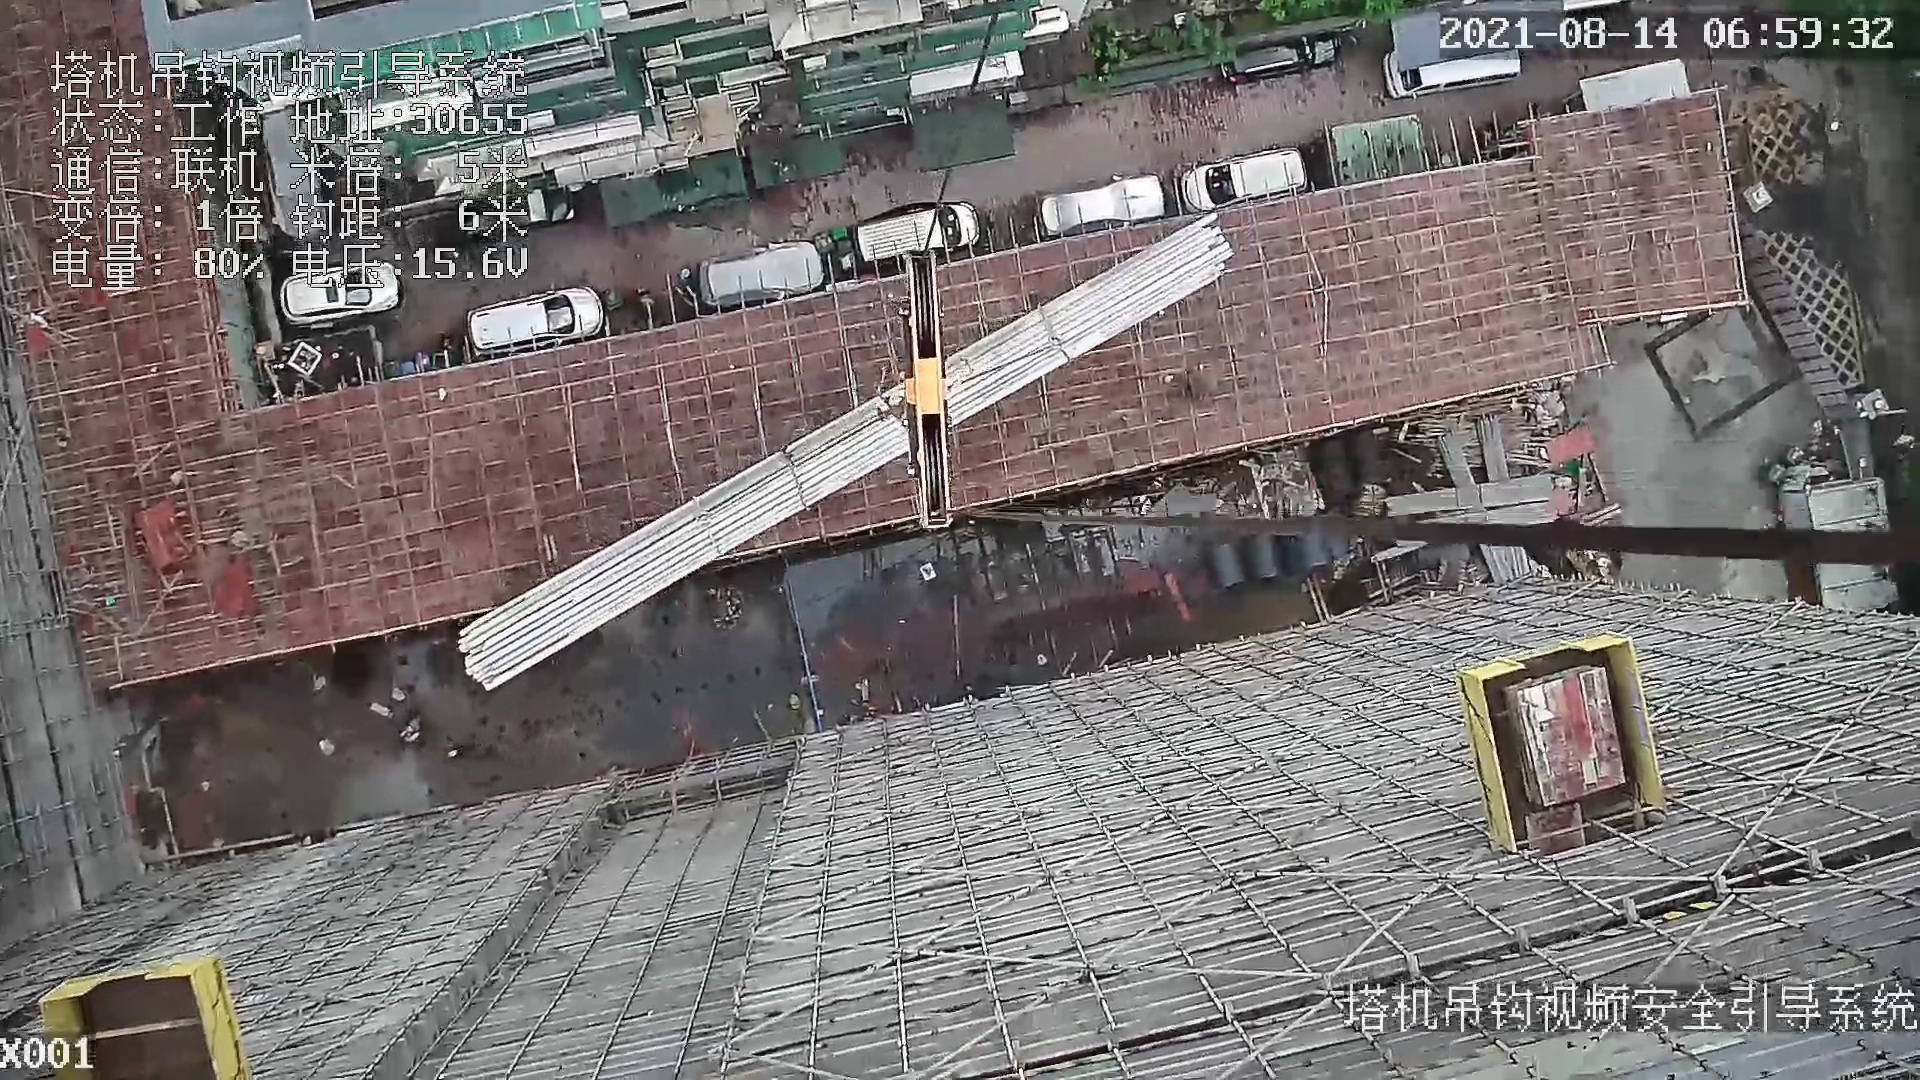board: (1505, 665, 1629, 803)
hook: (891, 247, 968, 533)
rebar: (458, 215, 1233, 694), (1383, 473, 1552, 518), (1418, 502, 1553, 522), (1433, 431, 1476, 487), (1474, 417, 1509, 479)
wood: (1354, 483, 1383, 517)
